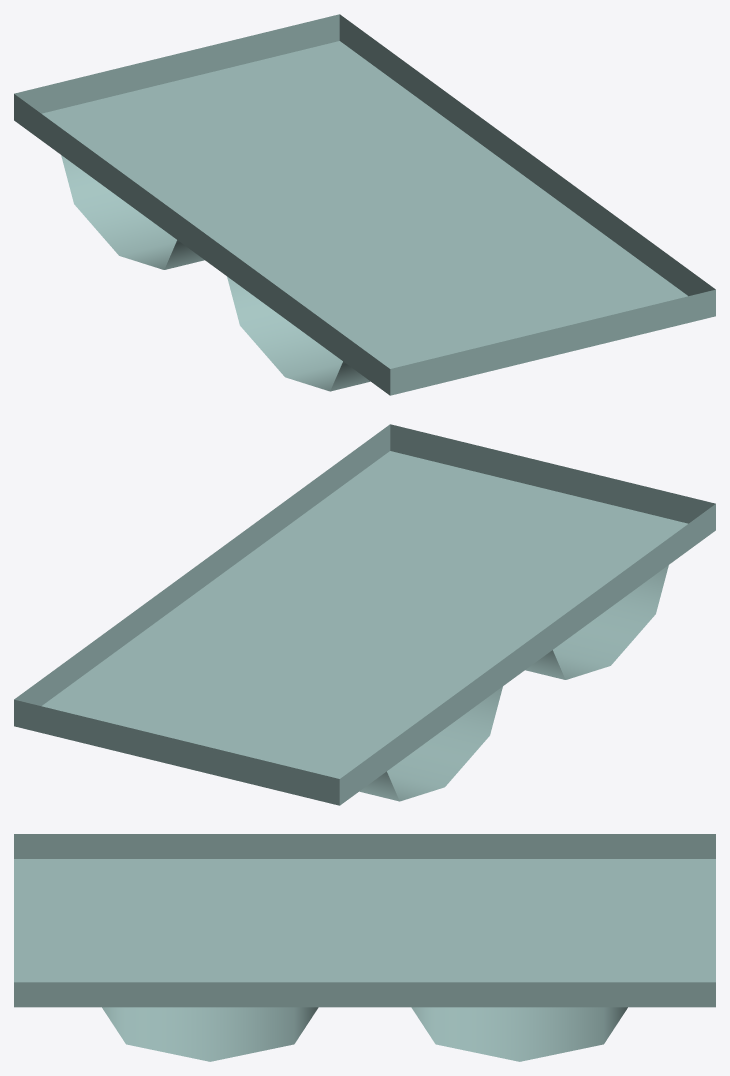
Rendered from BCeilPipesS.fbx.
3 views of the same model, one above another, from view 1: azimuth 30°, elevation 25°; view 2: azimuth 150°, elevation 25°; view 3: azimuth 270°, elevation 25° (orthographic). The views are drawn at different scales.
Visible parts, largest first — view 1: BCeilPipesS; view 2: BCeilPipesS; view 3: BCeilPipesS.
Boxes of the visible parts, x1,y1,x2,y2 form: BCeilPipesS: (14,14,715,395); BCeilPipesS: (14,424,715,805); BCeilPipesS: (14,834,715,1061).
Size of the model in its own units: 200 by 50 by 400.
